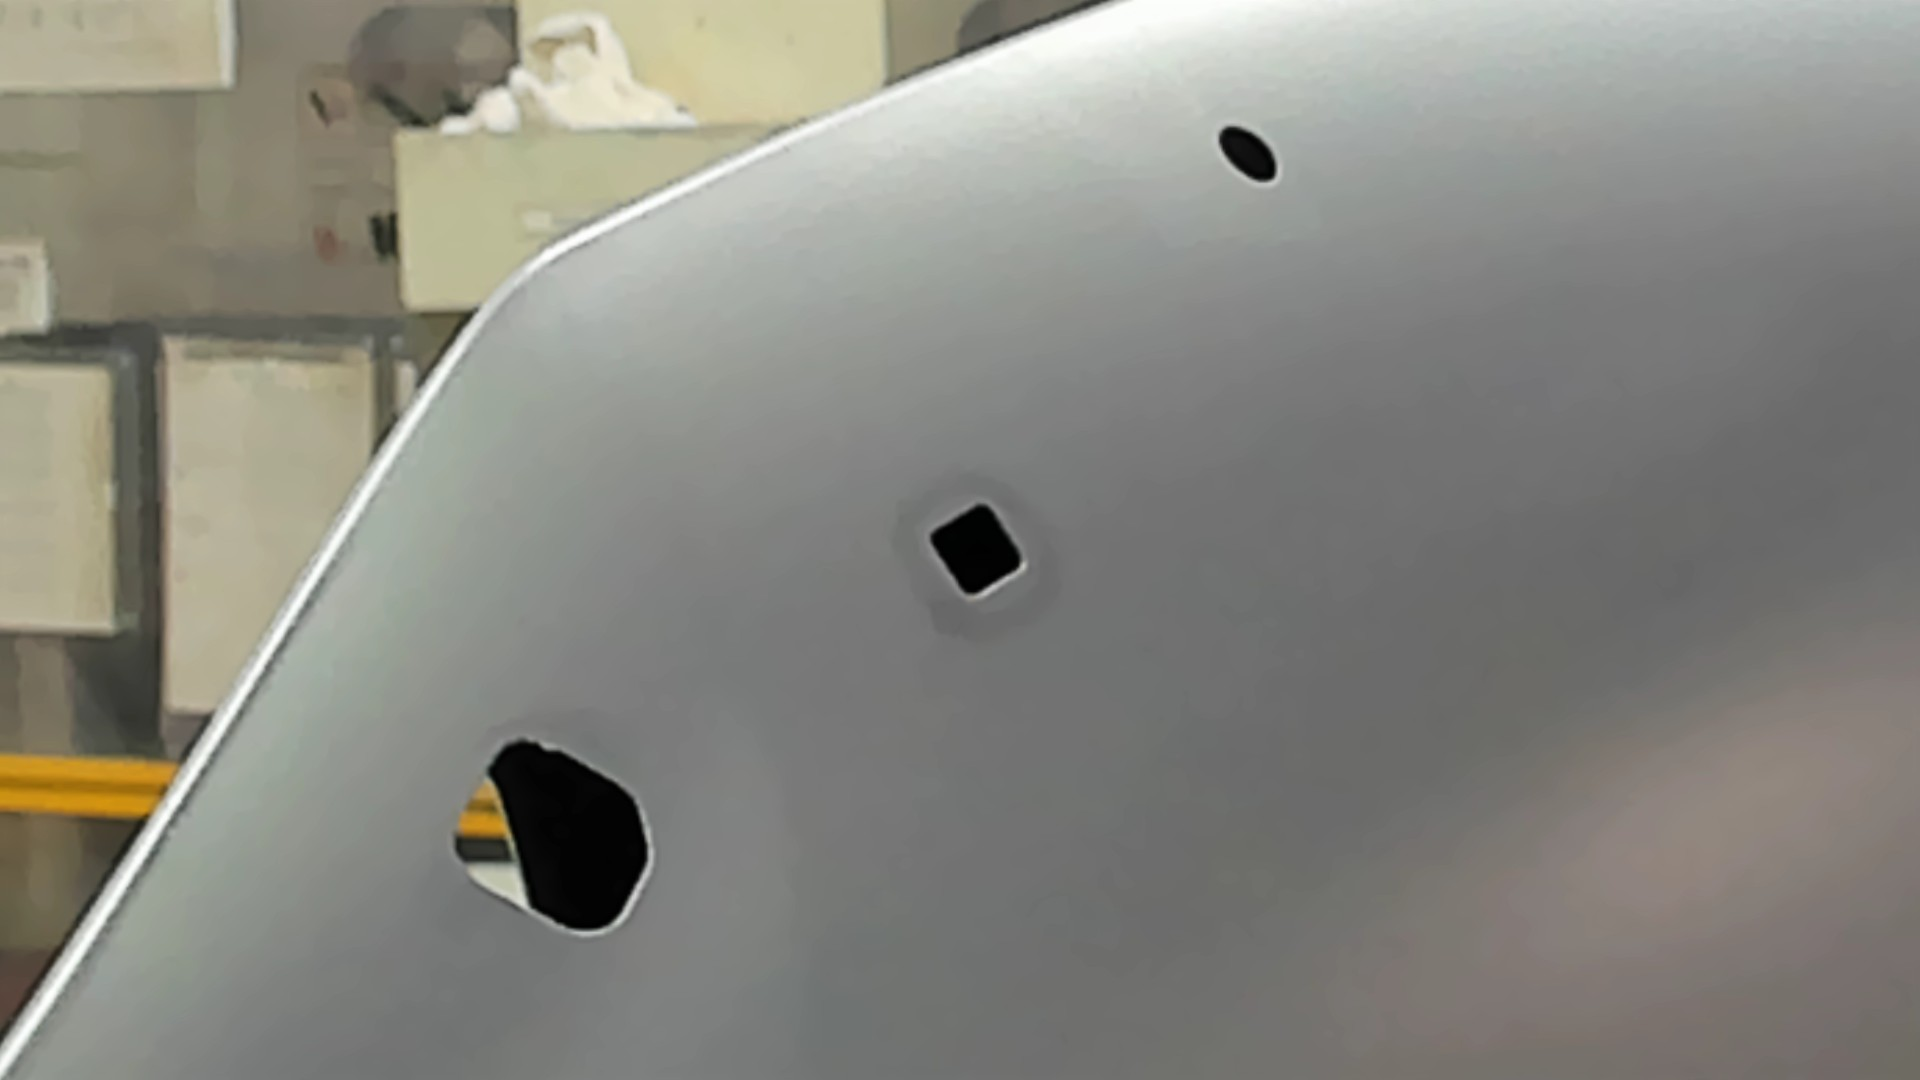chico: (1215, 121, 1282, 186)
grande: (448, 735, 655, 940)
mediano: (924, 497, 1031, 604)
